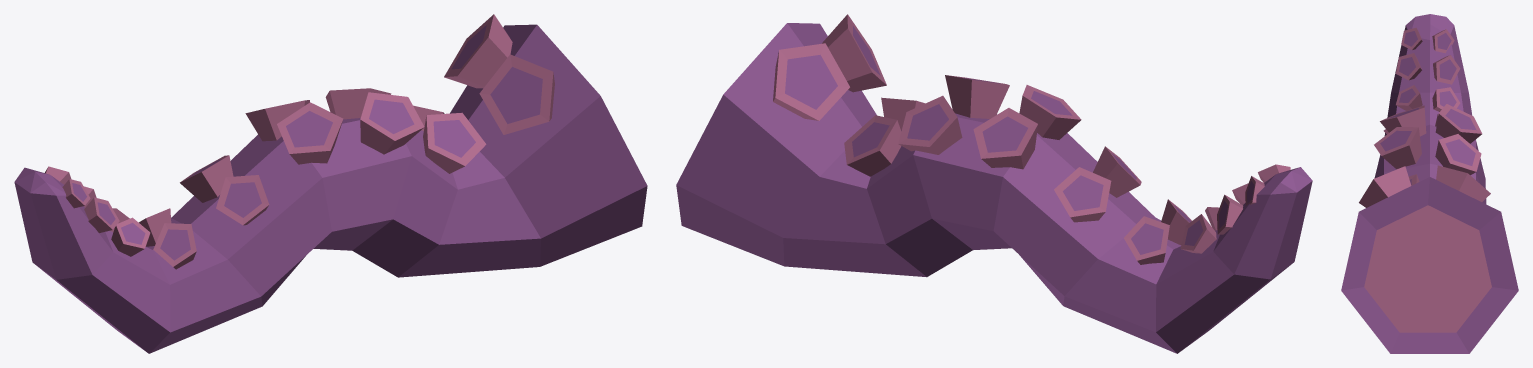
File: Tentacle.glb
3 views of the same model, side by side, from view 1: azimuth 30°, elevation 25°; view 2: azimuth 150°, elevation 25°; view 3: azimuth 270°, elevation 25° (orthographic). The views are drawn at different scales.
Visible parts, largest first — view 1: Tentacle; view 2: Tentacle; view 3: Tentacle.
Part boxes in pixels (x1,y1,x2,y2): Tentacle: [14, 14, 647, 353]; Tentacle: [676, 14, 1312, 353]; Tentacle: [1341, 14, 1518, 353].
Size of the model in its own units: 0.762 by 0.2757 by 0.2673.
